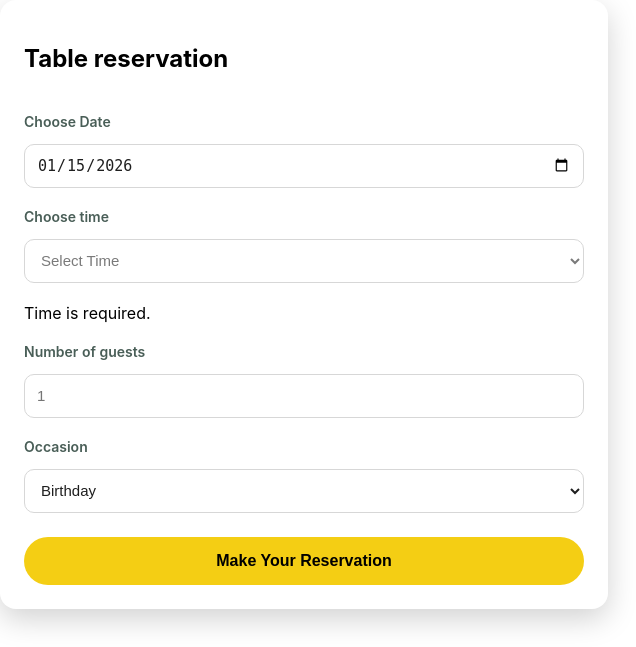
Test case: BookingForm validations › selecting a time makes form valid and enables submit
Select "17:00" in the dropdown labelled "Choose time". click: point(304, 261)
box: 24,239 -> 584,283
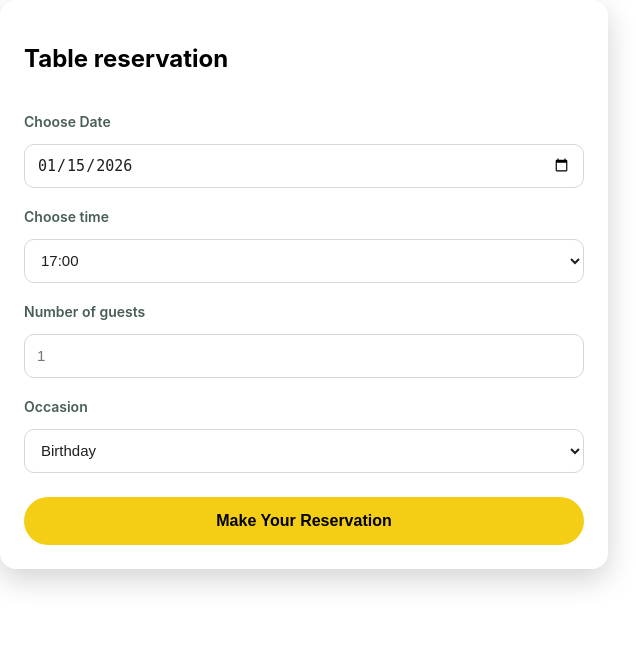
Expected: the button "Make Your Reservation" is enabled, 24,497 -> 584,545
